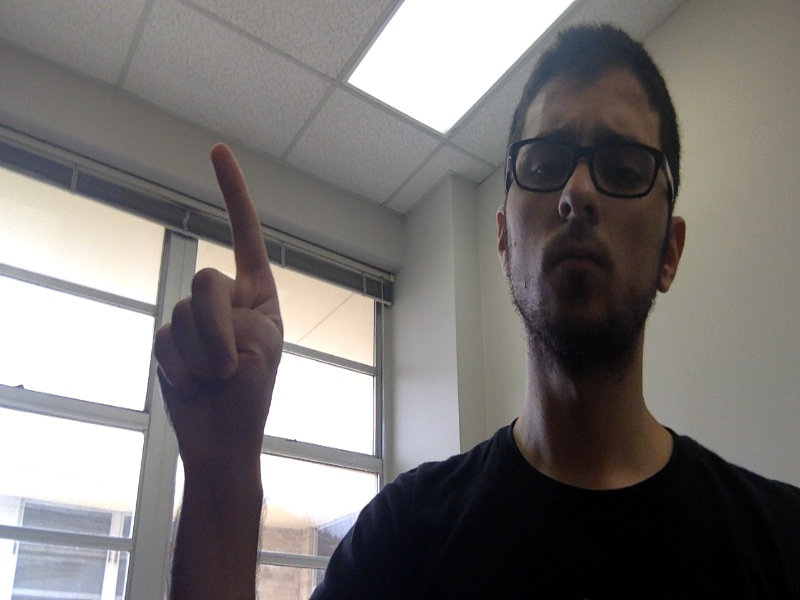1-hand: (157, 144, 283, 429)
